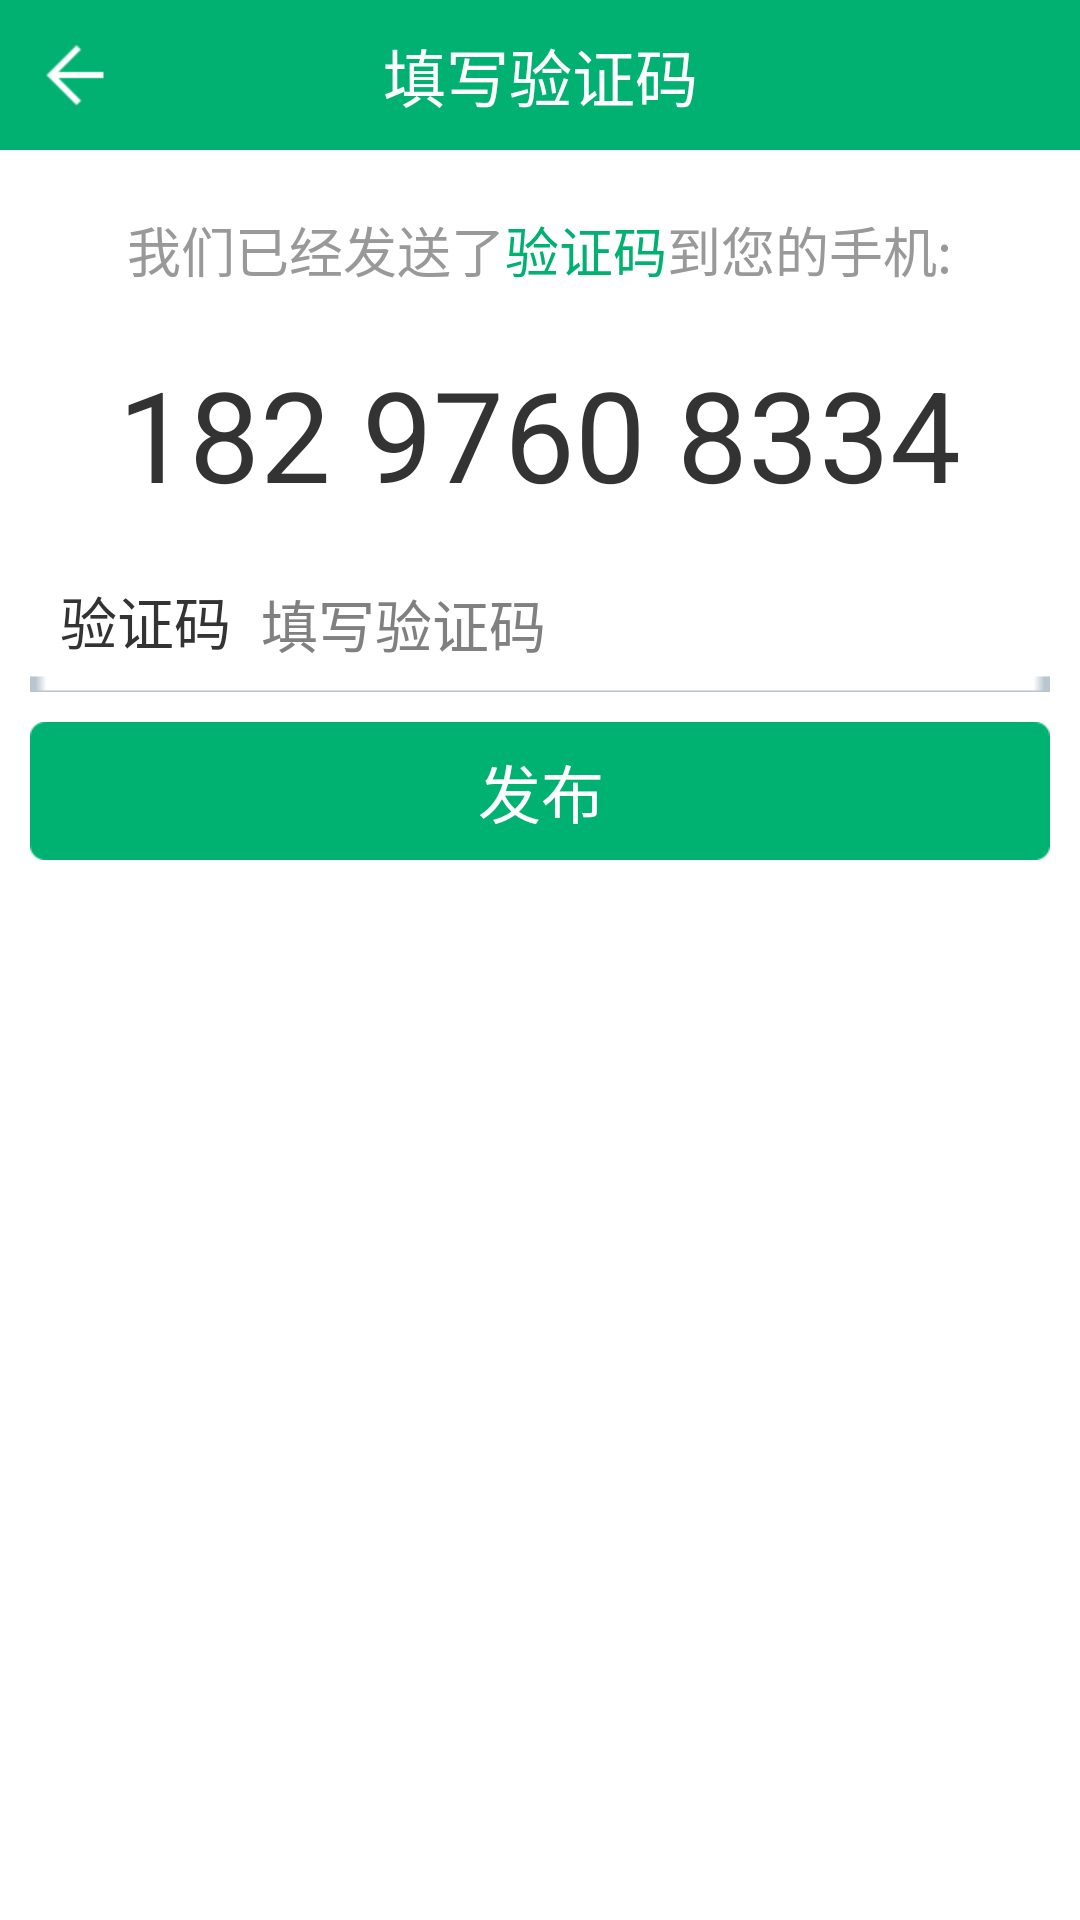

Icons on this 1080 x 1920 Android screen, each with the point to tap as (x=x, y=y):
back key: (x=75, y=75)
